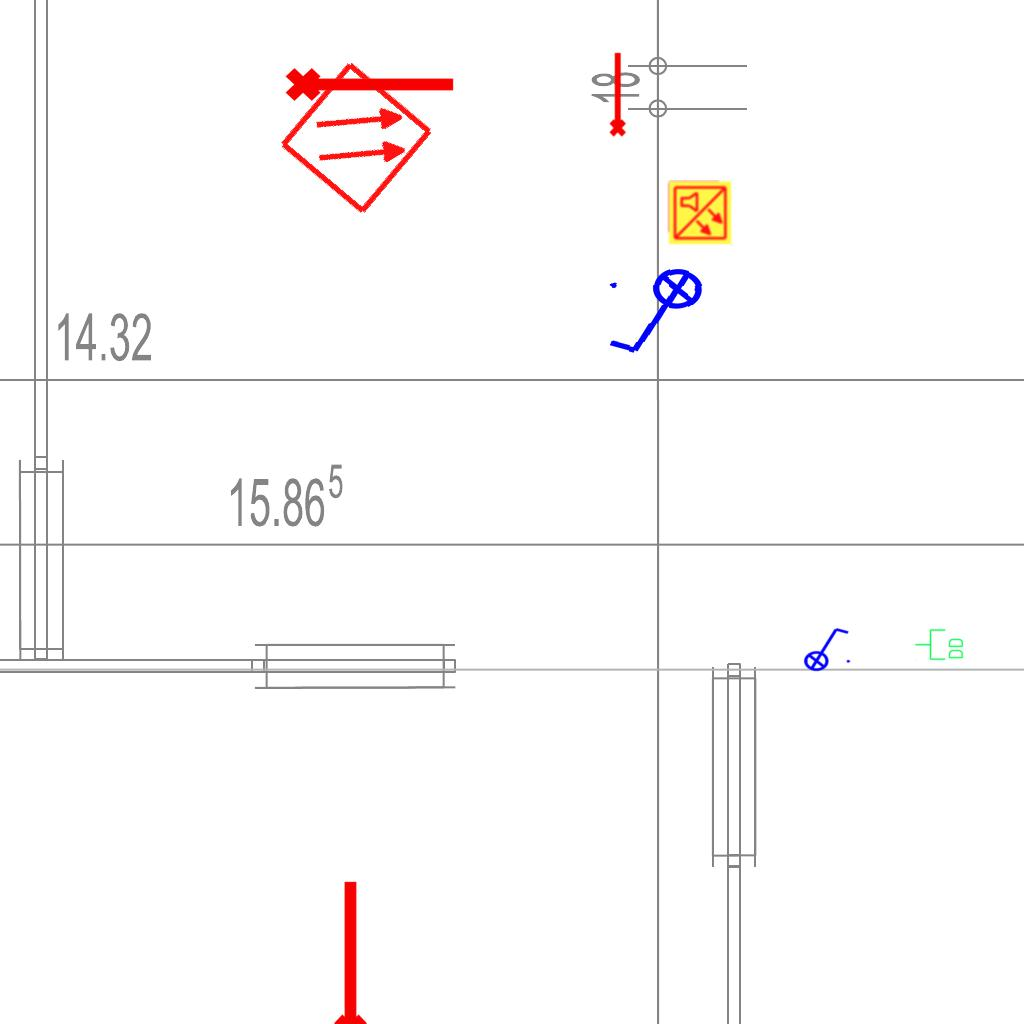ASR_Ansaugoeffnung: (283, 59, 459, 105), (325, 876, 371, 1024), (605, 50, 628, 138)
Ausschalter_beleuchtet: (600, 263, 718, 365), (797, 624, 853, 672)
Datenanschluss_zweifach: (914, 628, 965, 662)
OKW_Multisensormelder_(Kombination_optischer_Rauch-Kahlenmonoxid_Waerme-Melder): (667, 180, 733, 246)
RMO_Rauchmelder_optischer: (276, 57, 437, 218)
